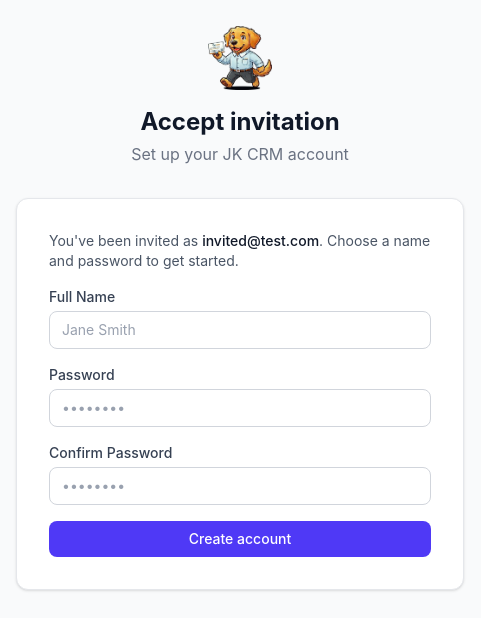
Test: AcceptInvitePage › shows validation error when passwords do not match
Type "New User" into the field labelled "Full Name" at coordinates (240, 330), box [49,311,431,349]
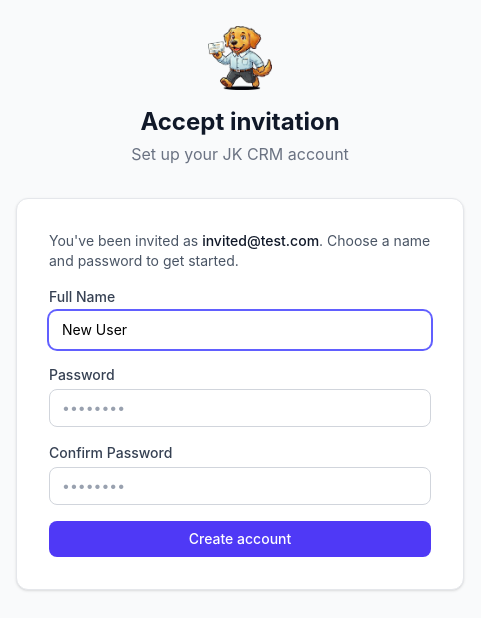
Type "password123" into the password field labelled "Password" at coordinates (240, 408), box [49,389,431,427]
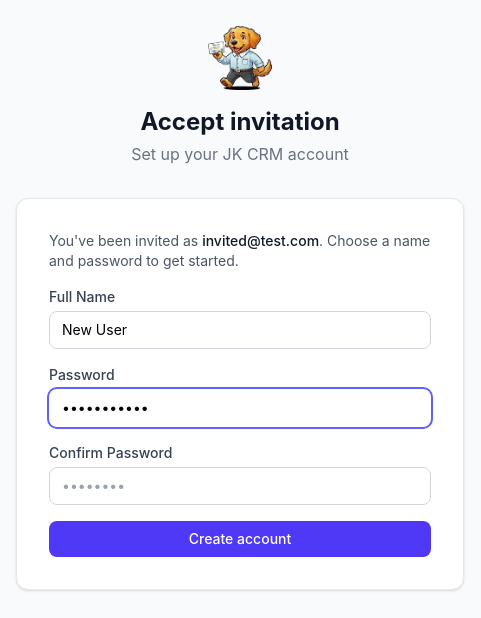
Type "different1" into the password field labelled "Confirm Password" at coordinates (240, 486), box [49,467,431,505]
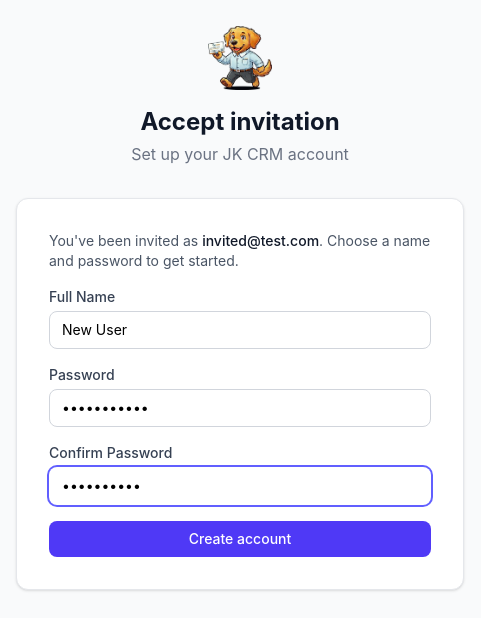
Click the button "Create account" at coordinates (240, 539), box [49,521,431,557]
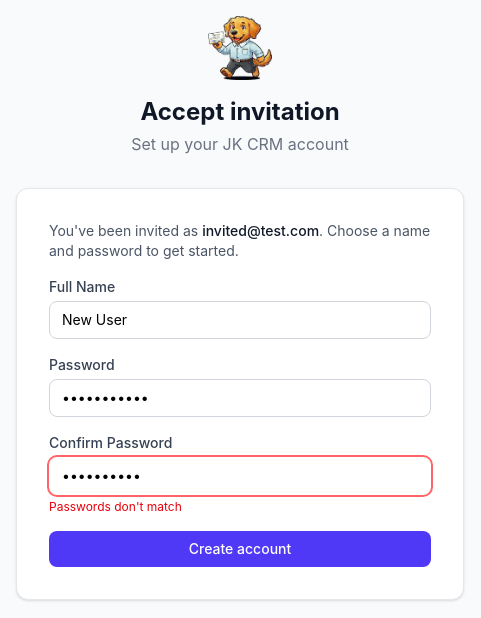
expect the text "Passwords don't match" is shown: met, box [49,499,182,514]
